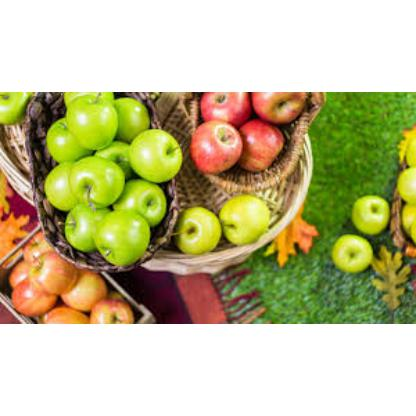apple: (95, 209, 150, 264), (185, 120, 239, 172), (231, 117, 283, 171), (125, 130, 181, 178), (62, 98, 114, 148), (72, 154, 122, 202), (174, 203, 219, 254), (218, 194, 270, 238), (108, 180, 166, 218), (62, 204, 116, 244), (330, 228, 372, 270), (250, 92, 300, 126), (29, 254, 76, 290), (58, 266, 100, 306), (199, 92, 247, 126), (348, 194, 388, 232), (11, 274, 53, 310)
